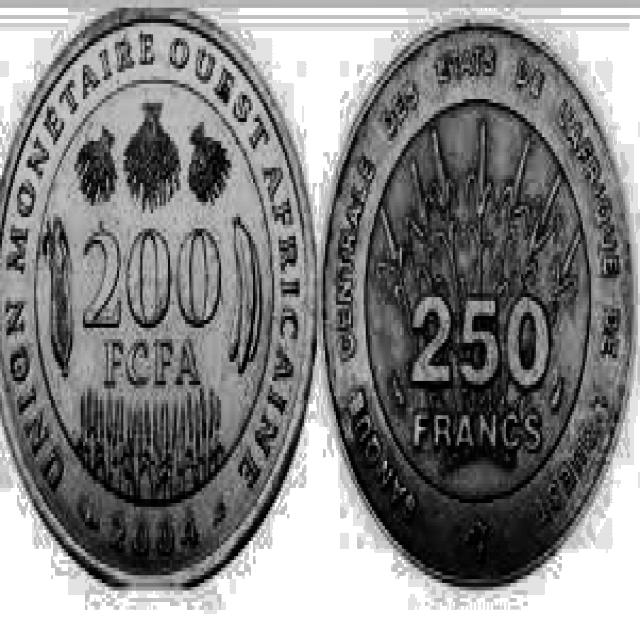juroom fukk: (325, 25, 632, 582)
nient fukk: (0, 11, 315, 585)
